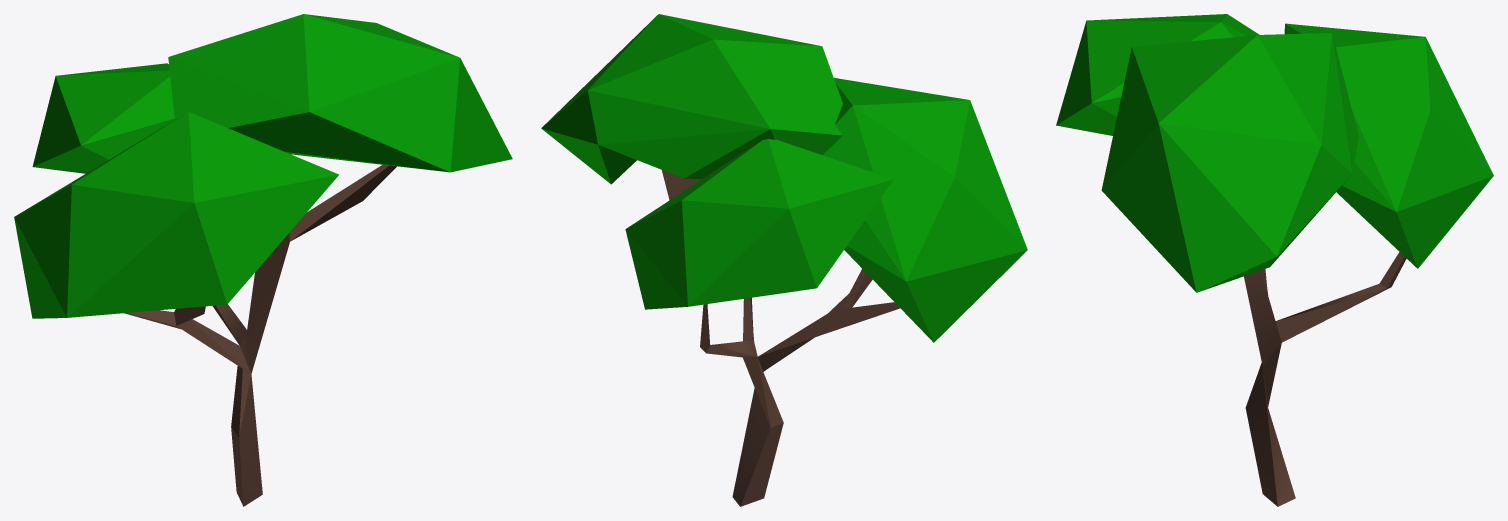
The model's file is tree_lowpoly_LOD1.dae.
3 renders of one model, left to right at view 1: azimuth 30°, elevation 25°; view 2: azimuth 150°, elevation 25°; view 3: azimuth 270°, elevation 25°, orthographic. The views are drawn at different scales.
Visible parts, largest first — view 1: Tree_Type3_03_mesh; view 2: Tree_Type3_03_mesh; view 3: Tree_Type3_03_mesh.
Part boxes in pixels (x1,y1,x2,y2): Tree_Type3_03_mesh: (14, 14, 512, 506); Tree_Type3_03_mesh: (541, 14, 1027, 506); Tree_Type3_03_mesh: (1056, 14, 1493, 506).
Bounding box in the file's own units: 4.45 × 3.56 × 4.37.
Materials: 1 (1 with a texture image).
